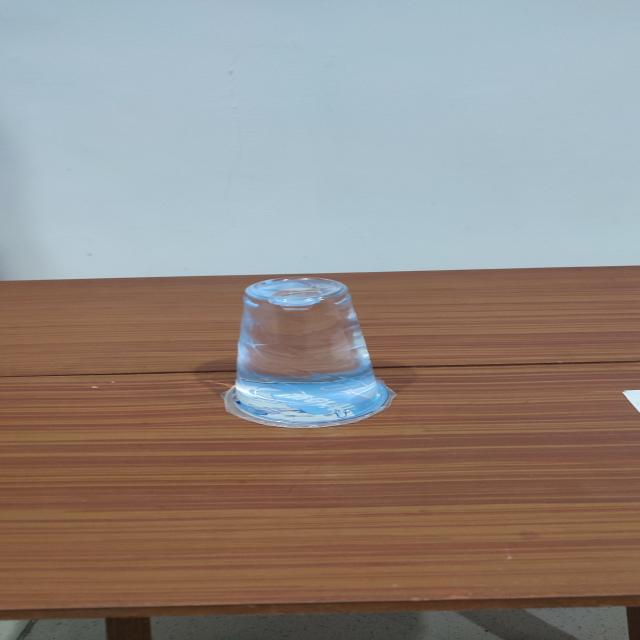air gelas: (212, 273, 416, 435)
